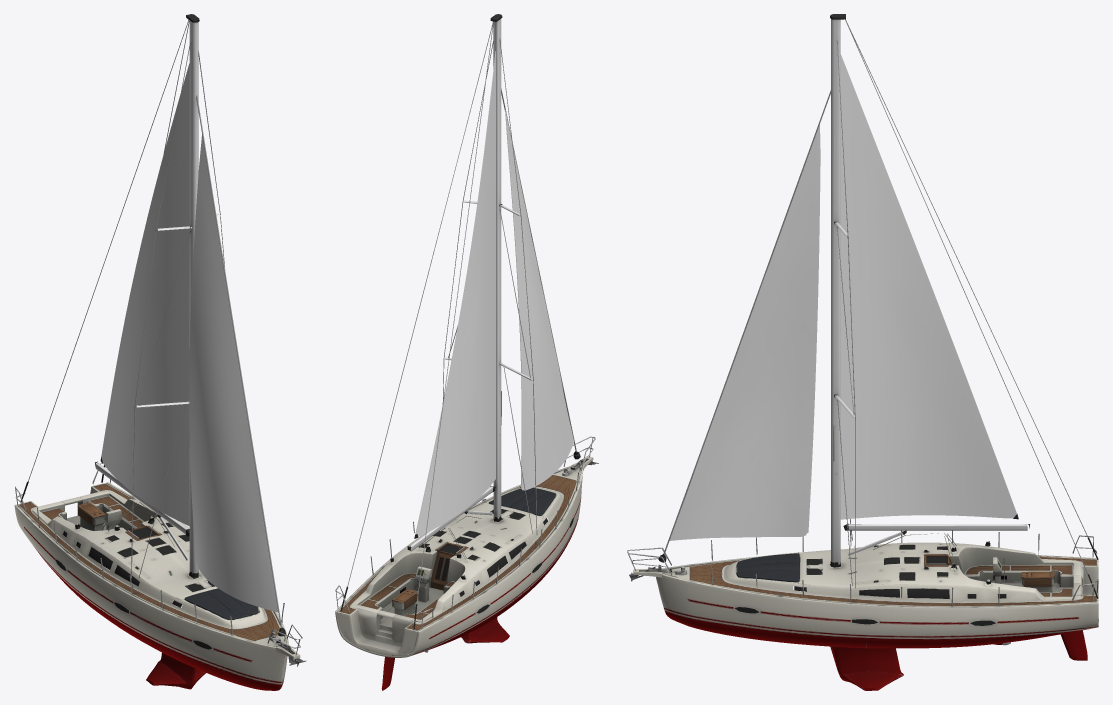
The model's file is SM_Sailboat02.gltf.
3 renders of one model, left to right at view 1: azimuth 30°, elevation 25°; view 2: azimuth 150°, elevation 25°; view 3: azimuth 270°, elevation 25°, orthographic. The views are drawn at different scales.
Visible parts, largest first — view 1: SM_Sailboat02; view 2: SM_Sailboat02; view 3: SM_Sailboat02.
Boxes of the visible parts, bbox=[...] form: SM_Sailboat02: bbox=[14, 14, 306, 690]; SM_Sailboat02: bbox=[335, 14, 598, 690]; SM_Sailboat02: bbox=[627, 14, 1098, 690].
Bounding box in the file's own units: 4.31 × 22.92 × 14.72.
Materials: 5 (4 with a texture image).
